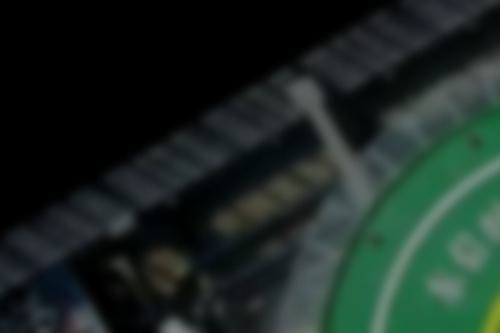Apron: (460, 290, 500, 333)
